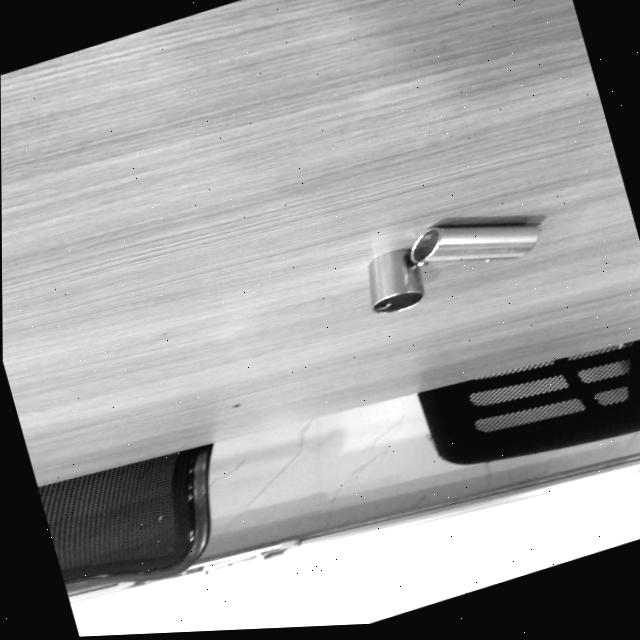Co_Lon: (363, 247, 426, 315)
Co_Nho: (407, 218, 540, 266)
